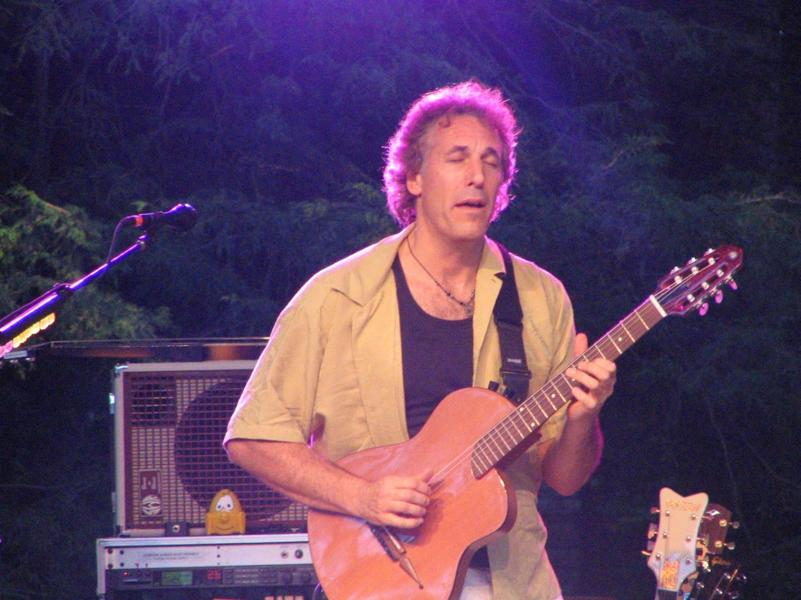person: (222, 81, 617, 598)
